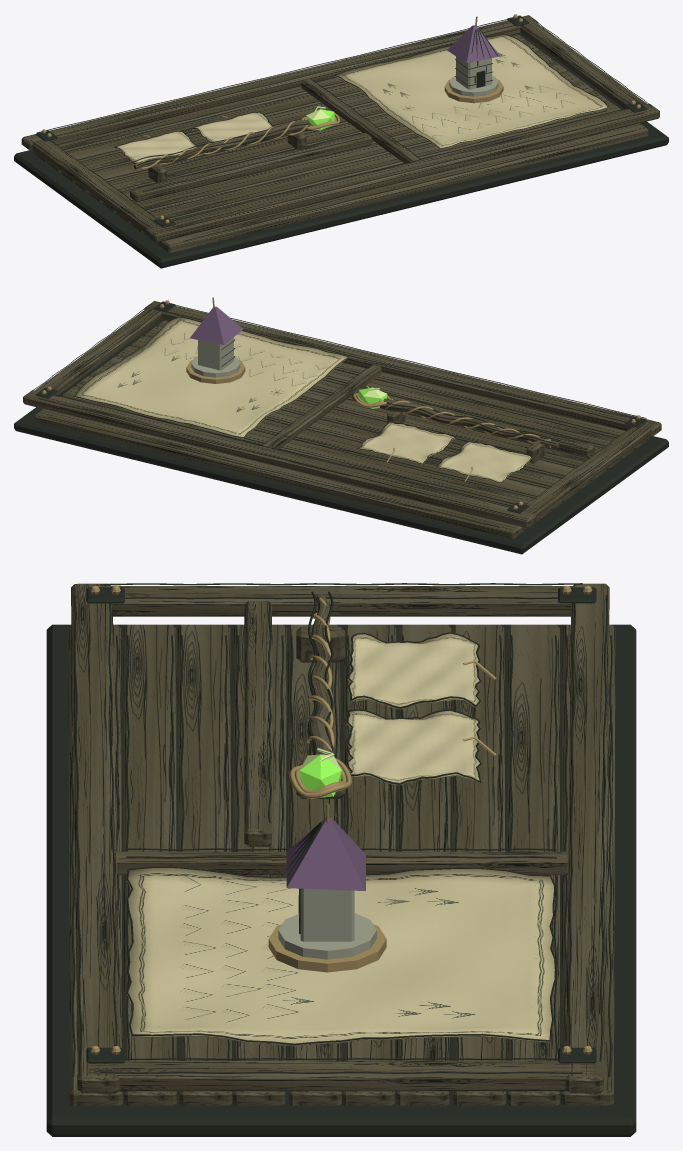
Rendered from e1_ink.glb.
3 views of the same model, one above another, from view 1: azimuth 30°, elevation 25°; view 2: azimuth 150°, elevation 25°; view 3: azimuth 270°, elevation 25° (orthographic). The views are drawn at different scales.
Parts seen in each view (by area): view 1: MapPaper, Backdrop, Bottom frame, Backboard, Top frame, Backboard.002, Backboard.003, Wand shelf, Backboard.005, Backboard.008, Backboard.009, Left frame (+22 smaller); view 2: MapPaper, Backdrop, Top frame, Backboard.009, Bottom frame, Backboard.007, Backboard.001, Backboard.003, Backboard.006, Left frame, Backboard, Right frame (+21 smaller); view 3: MapPaper, Backdrop, Bottom frame, Top frame, Backboard.001, Right frame, Backboard.008, Backboard.002, Left frame, Backboard.007, TagArmor, TagAcquire (+31 smaller).
Part boxes in pixels (left/top/right/bottom): MapPaper: left=335, top=34, right=608, bottom=149; Backdrop: left=14, top=33, right=668, bottom=268; Bottom frame: left=146, top=103, right=659, bottom=242; Backboard: left=157, top=123, right=648, bottom=252; Top frame: left=21, top=15, right=538, bottom=151; Backboard.002: left=130, top=100, right=620, bottom=232; Backboard.003: left=116, top=90, right=607, bottom=222; Wand shelf: left=130, top=132, right=372, bottom=201; Backboard.005: left=88, top=70, right=580, bottom=202; Backboard.008: left=47, top=40, right=538, bottom=172; Backboard.009: left=33, top=34, right=525, bottom=162; Left frame: left=32, top=140, right=158, bottom=232; MapPaper: left=75, top=317, right=348, bottom=438; Backdrop: left=14, top=319, right=668, bottom=554; Top frame: left=23, top=390, right=536, bottom=528; Backboard.009: left=34, top=409, right=525, bottom=538; Bottom frame: left=144, top=301, right=661, bottom=437; Backboard.007: left=62, top=386, right=553, bottom=518; Backboard.001: left=143, top=326, right=635, bottom=458; Backboard.003: left=116, top=346, right=607, bottom=478; Backboard.006: left=75, top=376, right=566, bottom=508; Left frame: left=515, top=422, right=654, bottom=519; Backboard: left=157, top=320, right=648, bottom=448; Right frame: left=29, top=302, right=162, bottom=398; MapPaper: left=127, top=868, right=554, bottom=1046; Backdrop: left=46, top=624, right=636, bottom=1136; Bottom frame: left=71, top=583, right=119, bottom=1093; Top frame: left=565, top=583, right=609, bottom=1093; Backboard.001: left=123, top=624, right=176, bottom=1105; Right frame: left=88, top=1060, right=594, bottom=1091; Backboard.008: left=507, top=624, right=559, bottom=1105; Backboard.002: left=177, top=624, right=232, bottom=1105; Left frame: left=89, top=586, right=590, bottom=616; Backboard.007: left=451, top=624, right=505, bottom=1105; TagArmor: left=346, top=710, right=480, bottom=785; TagAcquire: left=347, top=633, right=480, bottom=709.
Bounding box in the file's own units: 17 × 3.42 × 8.5.
Materials: 10 (4 with a texture image).
